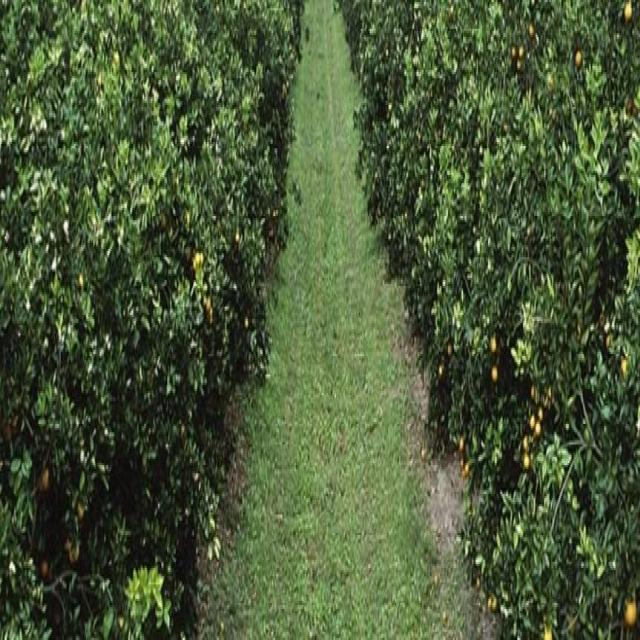row: (204, 4, 480, 638)
